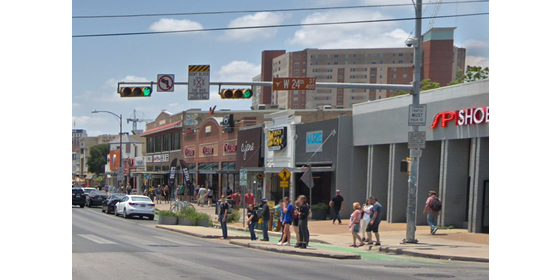dont block the box sign: (188, 62, 210, 103)
no left turn sign: (157, 72, 175, 95)
turning vehicle yield to ped sign: (408, 100, 427, 127)
